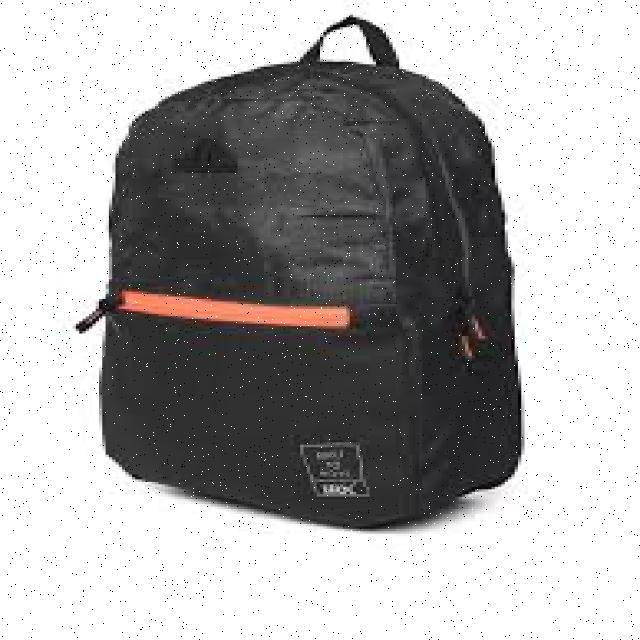backpack: (72, 12, 524, 529)
